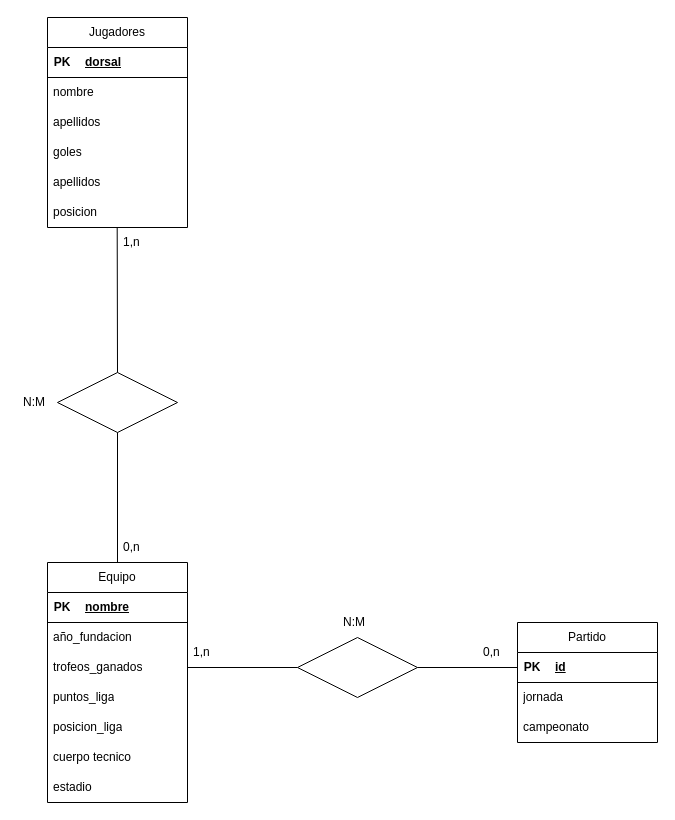
This 675x820 diagram has some shape labels left out. The shapes that lost their labels are listed below. From the top down, each one's box as (x1, y1, x2, y2) in pixels, then its label:
(56, 372, 178, 432): Pertenece
(296, 636, 418, 698): Juega
